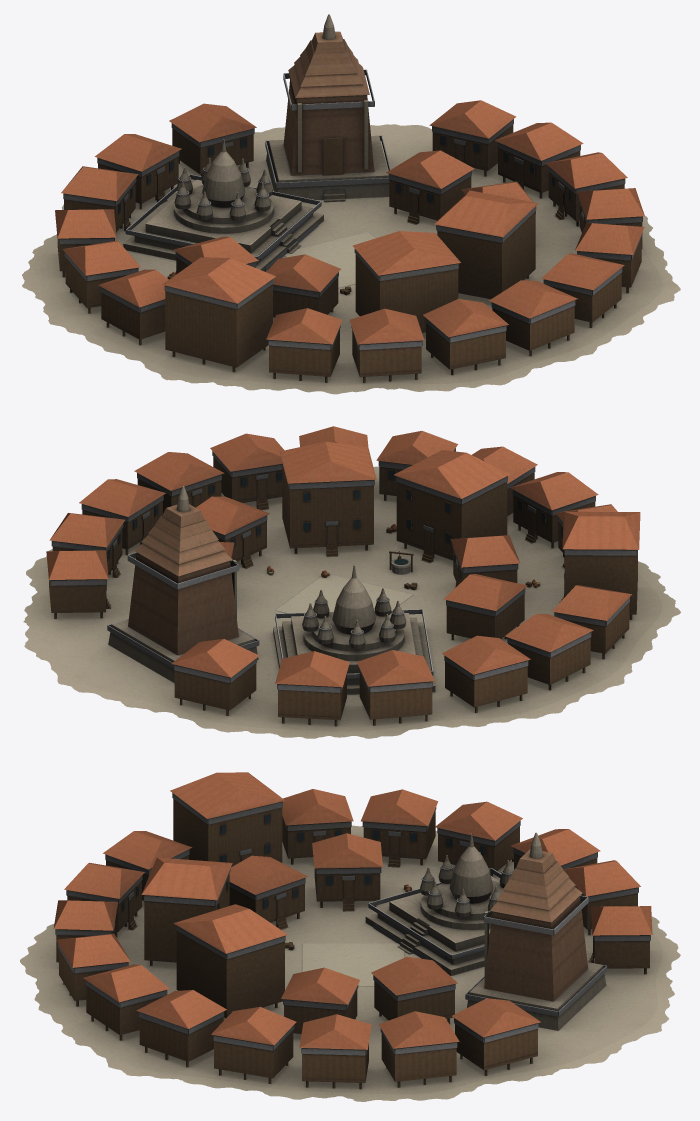
Rendered from classical-town-big-b-monsoon-126c959b.glb.
3 renders of one model, top to bottom at view 1: azimuth 30°, elevation 25°; view 2: azimuth 150°, elevation 25°; view 3: azimuth 270°, elevation 25°, orthographic.
Visible parts, largest first — view 1: LOD0; view 2: LOD0; view 3: LOD0.
Boxes of the visible parts, left/top/right/bottom form: LOD0: left=22, top=14, right=680, bottom=394; LOD0: left=23, top=426, right=680, bottom=738; LOD0: left=20, top=772, right=680, bottom=1101.
Size of what is drawn, in the model's own units: 7.94 by 2.2 by 7.93.
3 materials, 3 textured.
